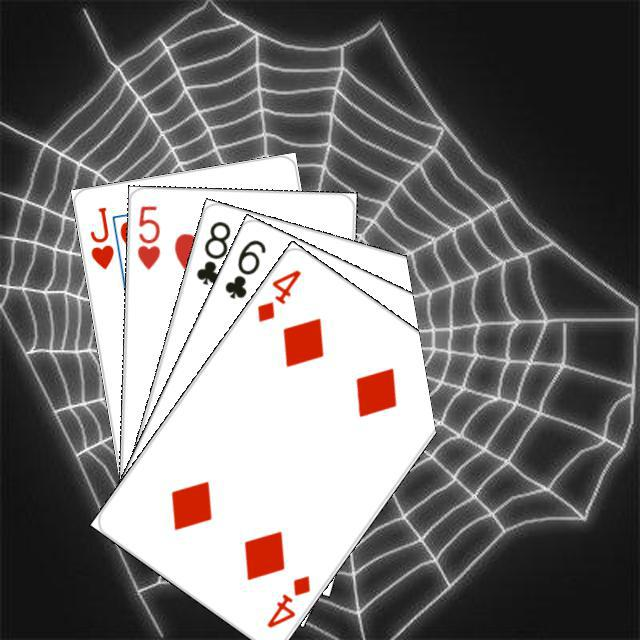4d: (251, 264, 303, 324), (262, 570, 312, 630)
5h: (132, 200, 162, 272)
6c: (219, 234, 268, 301)
8c: (191, 216, 233, 287)
Jh: (85, 201, 116, 271)
